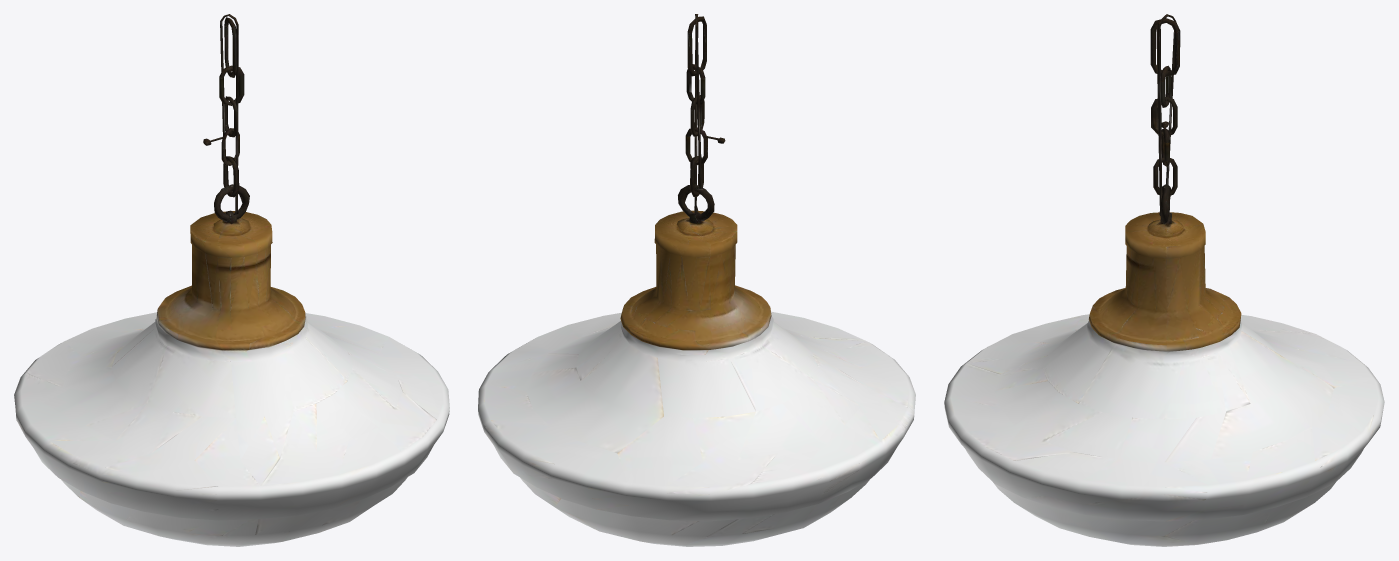
The model's file is pendant_lamp.glb.
3 views of the same model, side by side, from view 1: azimuth 30°, elevation 25°; view 2: azimuth 150°, elevation 25°; view 3: azimuth 270°, elevation 25° (orthographic).
Size of the model in its own units: 0.7212 by 0.9517 by 0.728.
1 material, 1 textured.
